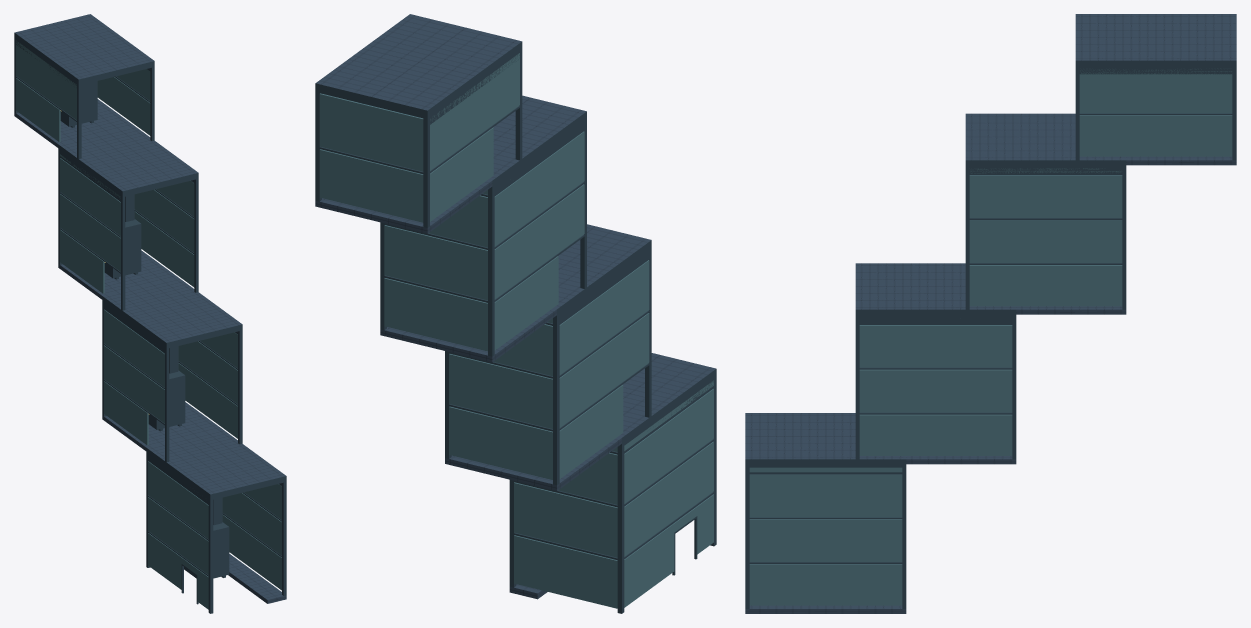
File: maintenance-access-replacement-1.glb
3 views of the same model, side by side, from view 1: azimuth 30°, elevation 25°; view 2: azimuth 150°, elevation 25°; view 3: azimuth 270°, elevation 25° (orthographic). The views are drawn at different scales.
Visible parts, largest first — view 1: maintenance-access-replacement-1; view 2: maintenance-access-replacement-1; view 3: maintenance-access-replacement-1.
Boxes of the visible parts, x1,y1,x2,y2 form: maintenance-access-replacement-1: (14, 14, 286, 613); maintenance-access-replacement-1: (315, 14, 716, 613); maintenance-access-replacement-1: (745, 14, 1236, 613).
Bounding box in the file's own units: 8 × 44.4 × 35.7.
Materials: 4 (1 with a texture image).
